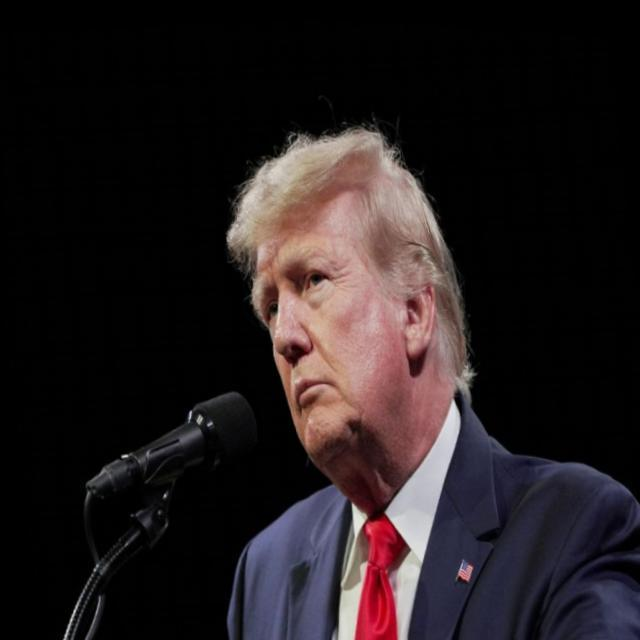Nonhelmet: (219, 119, 480, 499)
